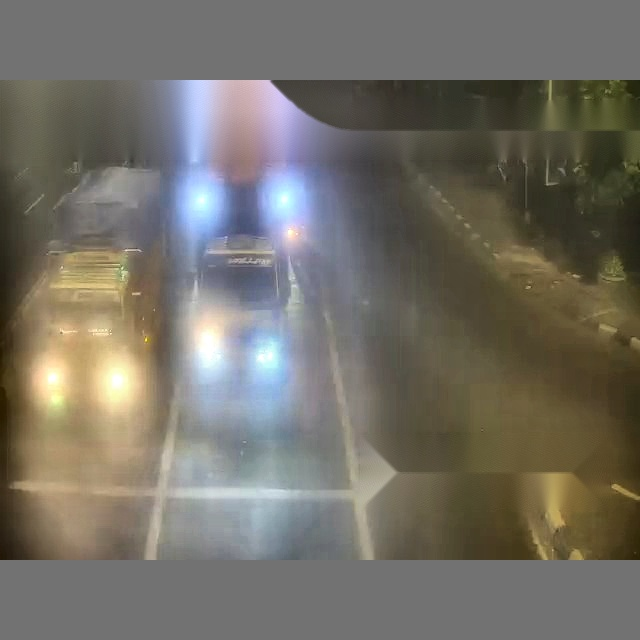Truk: (254, 49, 639, 557), (1, 162, 172, 557)
